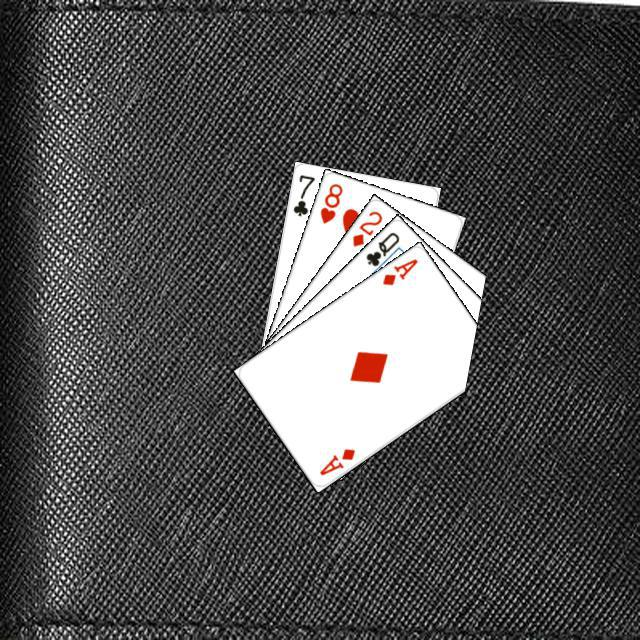2d: (347, 206, 384, 248)
7c: (288, 170, 317, 218)
8h: (315, 178, 344, 225)
Ad: (377, 253, 420, 287), (315, 443, 357, 477)
Qc: (361, 227, 403, 276)
